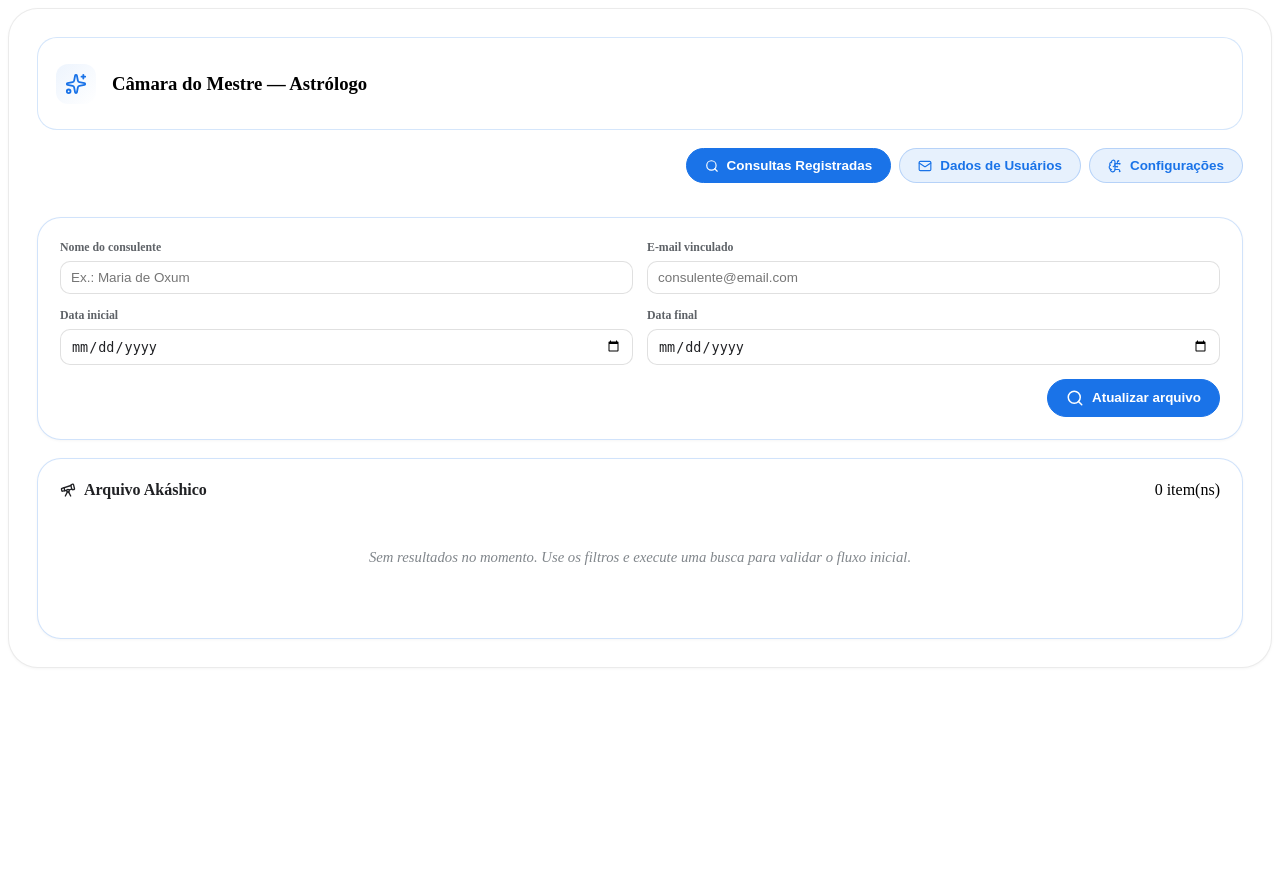
AstrologoModule dados posicionais v2 › mostra a tabela de dez planetas, falange e proveniência em horário de Brasília
This screenshot has width=1280, height=878.
Click the button "Atualizar arquivo": (1134, 398) [1047,379,1220,417]
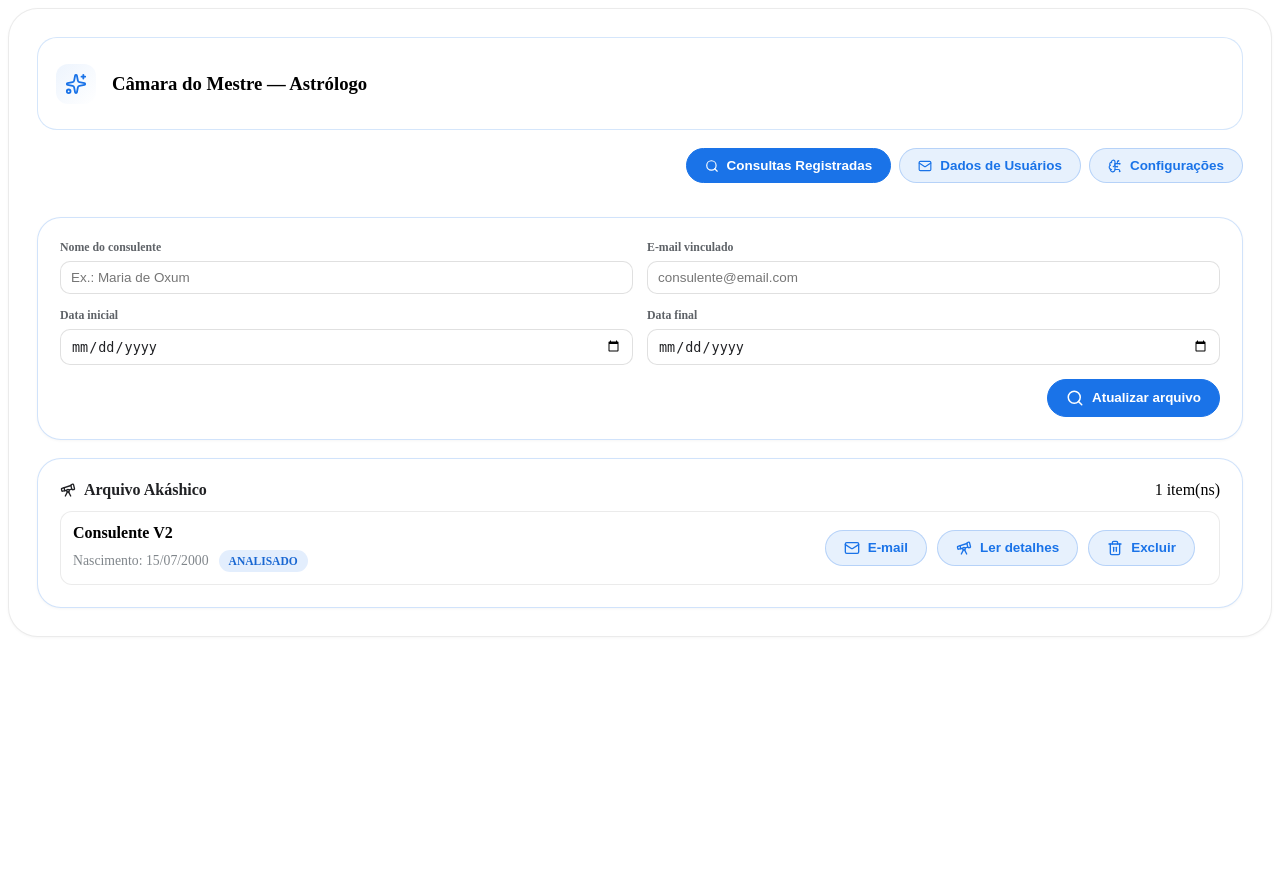
Expected: the list item "Consulente V2" is shown, [73,524,173,541]
Click the button "Ler detalhes": (1008, 548) [937,530,1078,566]
(page scrolled)
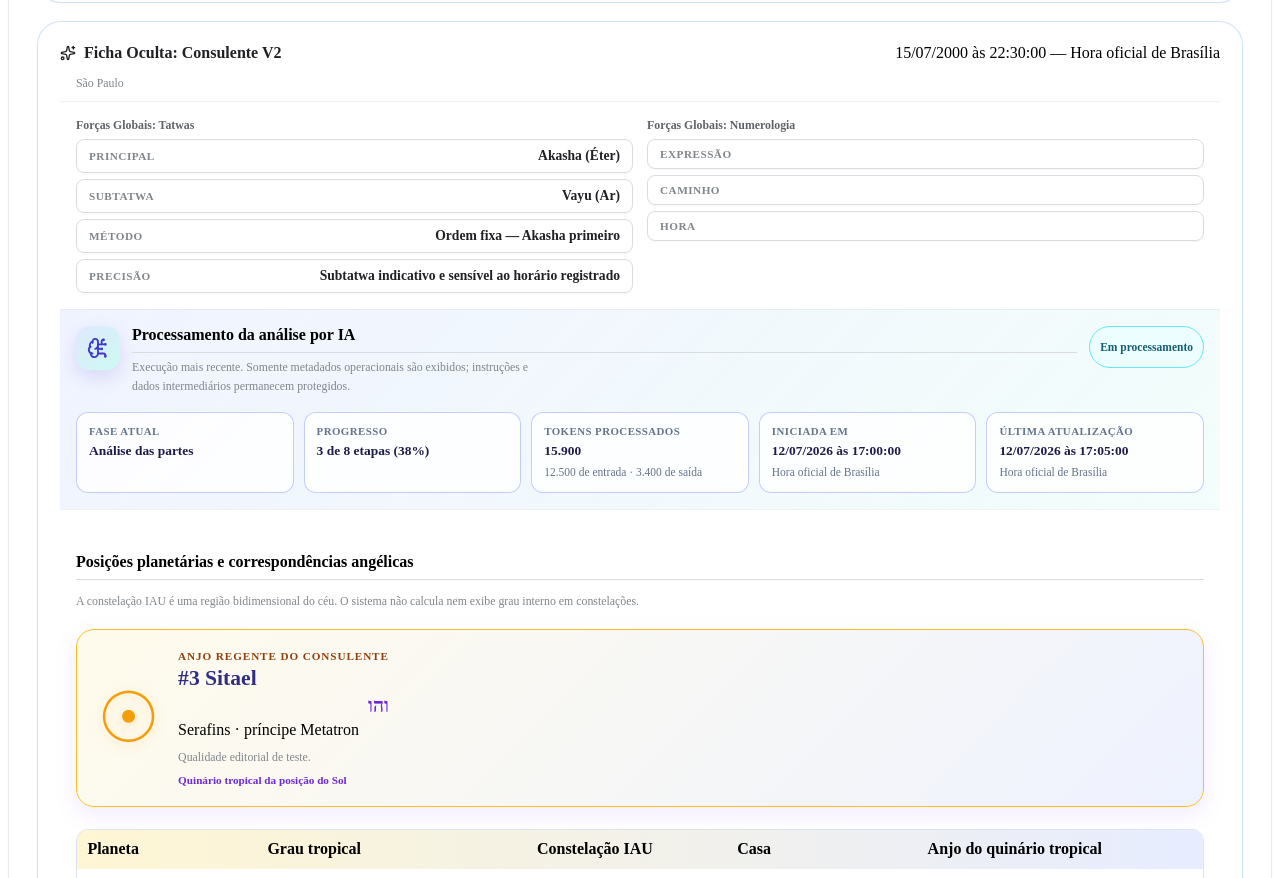
Expected: the text "Áries (Ari)" is shown 10 times
Expected: the text "#3 Sitael" below "Anjo regente do consulente" is shown, [178,666,257,690]
Expected: the text "Quinário tropical da posição do Sol" is shown, [178,774,347,786]
